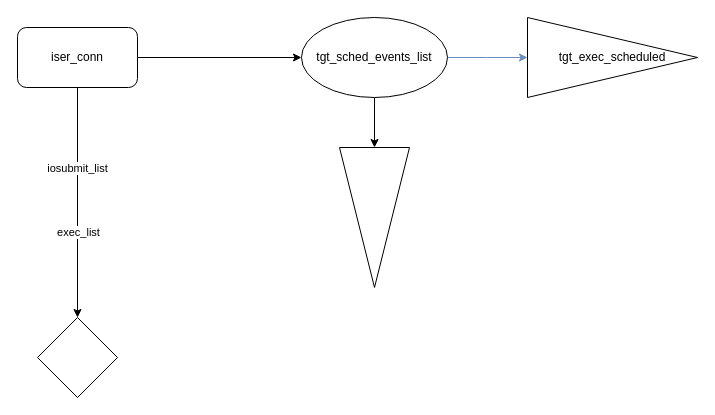
Some shapes in this 715 by 415 pixel diagram are drawn without their labels. Each missing label, with the centre of its shape:
iser_sched_iosubmit: the point at 374,217
iser_task: the point at 77,357
